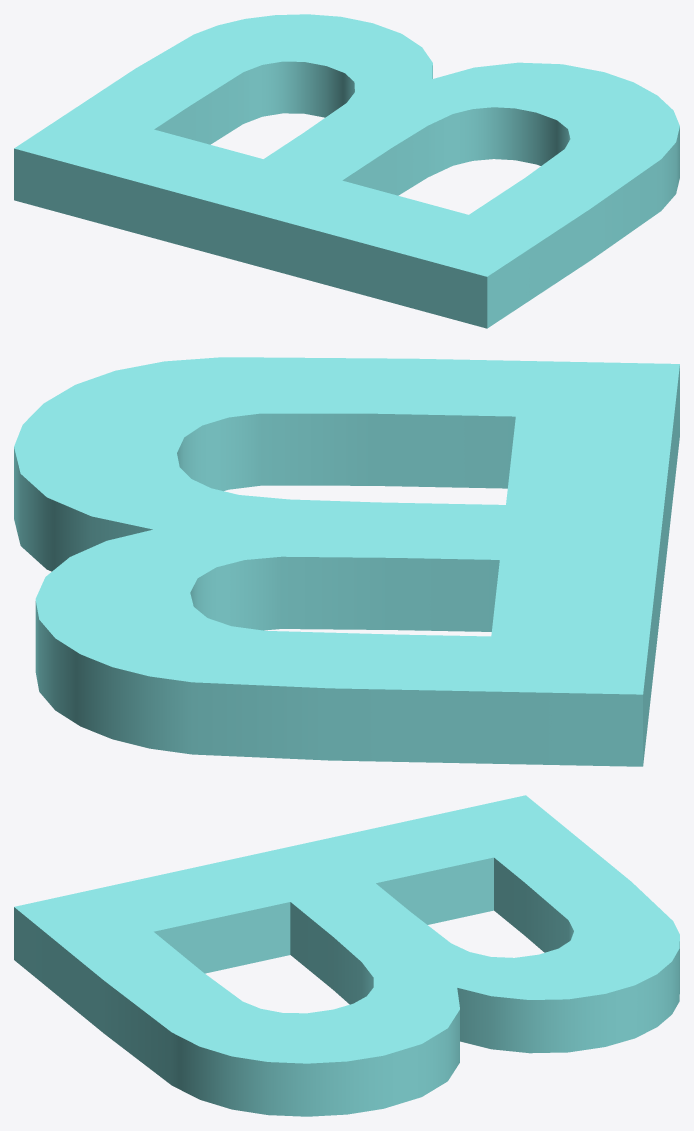
The model's file is original-15.obj.
3 views of the same model, one above another, from view 1: azimuth 30°, elevation 25°; view 2: azimuth 150°, elevation 25°; view 3: azimuth 270°, elevation 25° (orthographic). The views are drawn at different scales.
Parts seen in each view (by area): view 1: mesh31/mesh31-geometry#mesh31-geometry; view 2: mesh31/mesh31-geometry#mesh31-geometry; view 3: mesh31/mesh31-geometry#mesh31-geometry.
Part boxes in pixels (x1,y1,x2,y2): mesh31/mesh31-geometry#mesh31-geometry: (14,14,679,328); mesh31/mesh31-geometry#mesh31-geometry: (14,357,679,766); mesh31/mesh31-geometry#mesh31-geometry: (14,795,679,1116).
Size of the model in its own units: 0.0424 by 0.00391 by 0.0445.
